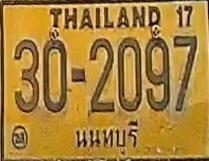0: (42, 36, 67, 113), (117, 36, 142, 112)
2: (86, 38, 114, 113)
3: (13, 39, 39, 113)
7: (173, 34, 197, 108)
9: (145, 36, 170, 112)
NBI: (71, 119, 144, 156)
